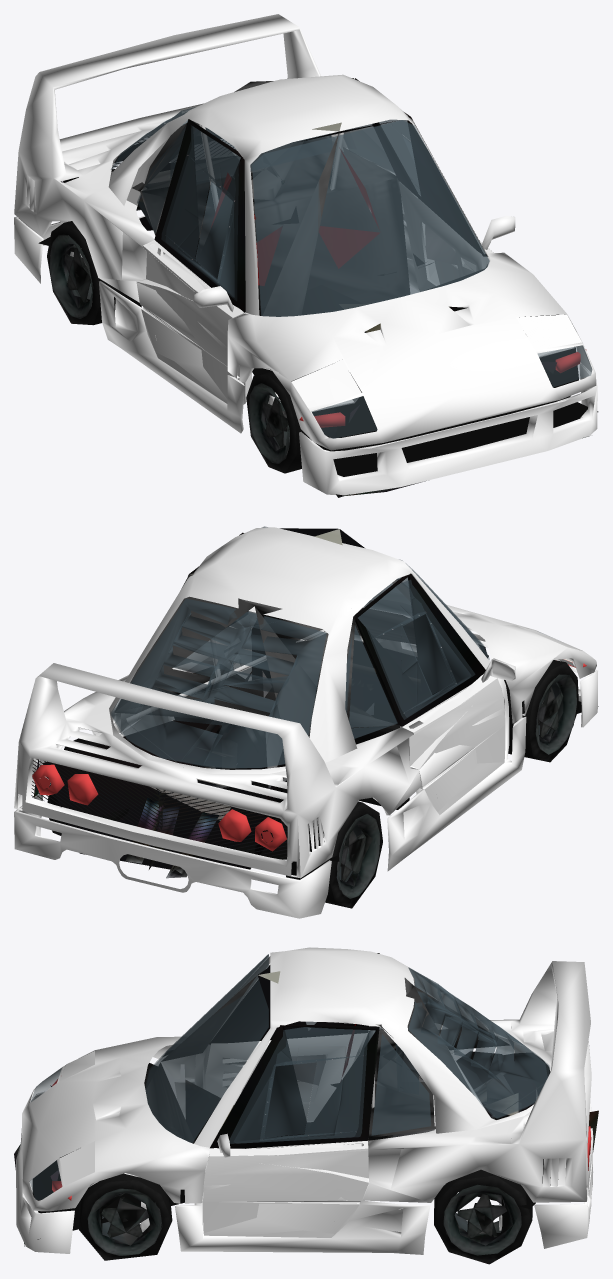
3 views of the same model, one above another, from view 1: azimuth 30°, elevation 25°; view 2: azimuth 150°, elevation 25°; view 3: azimuth 270°, elevation 25° (orthographic). The views are drawn at different scales.
Parts seen in each view (by area): view 1: body_paint, body_details, glass, lamps_rear; view 2: body_paint, body_details, glass, lamps_rear; view 3: body_paint, body_details, glass.
Boxes of the visible parts, <box> form: body_paint: <box>14,14,597,495</box>; body_details: <box>38,78,598,497</box>; glass: <box>111,107,591,438</box>; lamps_rear: <box>299,349,586,427</box>; body_paint: <box>14,527,597,918</box>; body_details: <box>31,528,598,908</box>; glass: <box>110,526,551,768</box>; lamps_rear: <box>32,660,586,851</box>; body_paint: <box>16,947,593,1254</box>; body_details: <box>14,953,598,1264</box>; glass: <box>29,954,549,1199</box>.
Bounding box in the file's own units: 1.8 × 1.35 × 3.14.
Materials: 5 (1 with a texture image).
